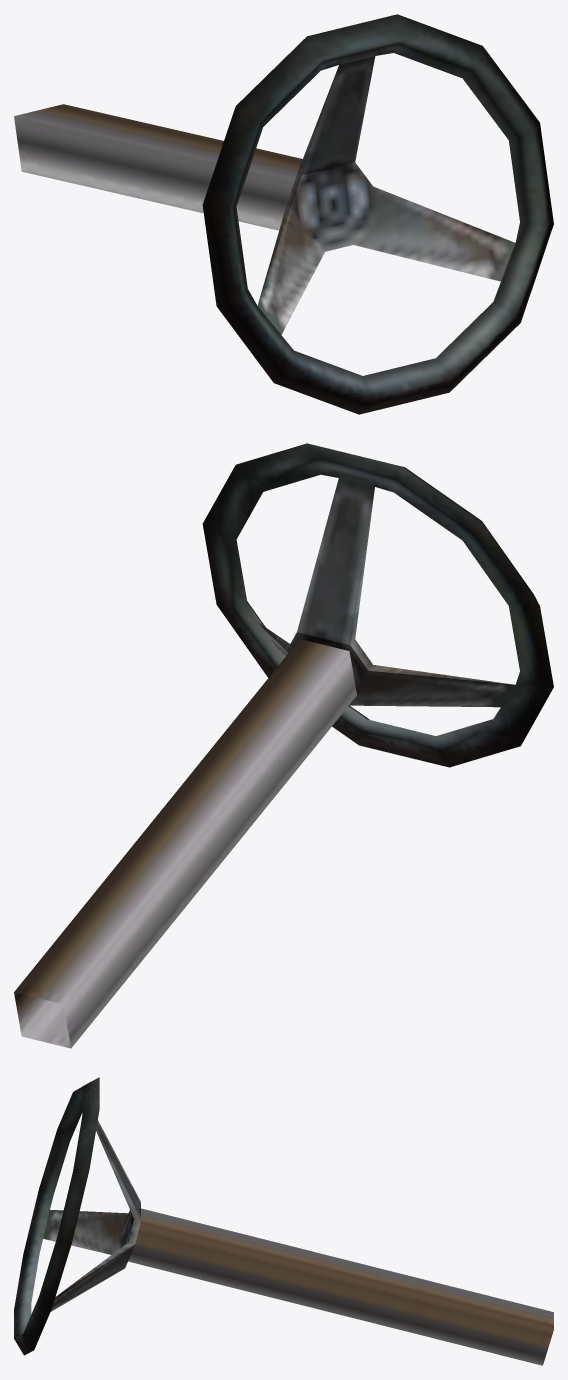
File: steering_wheel_lo.fbx
3 views of the same model, one above another, from view 1: azimuth 30°, elevation 25°; view 2: azimuth 150°, elevation 25°; view 3: azimuth 270°, elevation 25° (orthographic). The views are drawn at different scales.
Parts seen in each view (by area): view 1: steering_wheel_lo; view 2: steering_wheel_lo; view 3: steering_wheel_lo.
Part boxes in pixels (box(x1,y1,x2,y2)): steering_wheel_lo: box(14, 14, 553, 414); steering_wheel_lo: box(14, 443, 553, 1048); steering_wheel_lo: box(14, 1077, 553, 1365).
Bounding box in the file's own units: 32.65 × 33.68 × 62.45.
